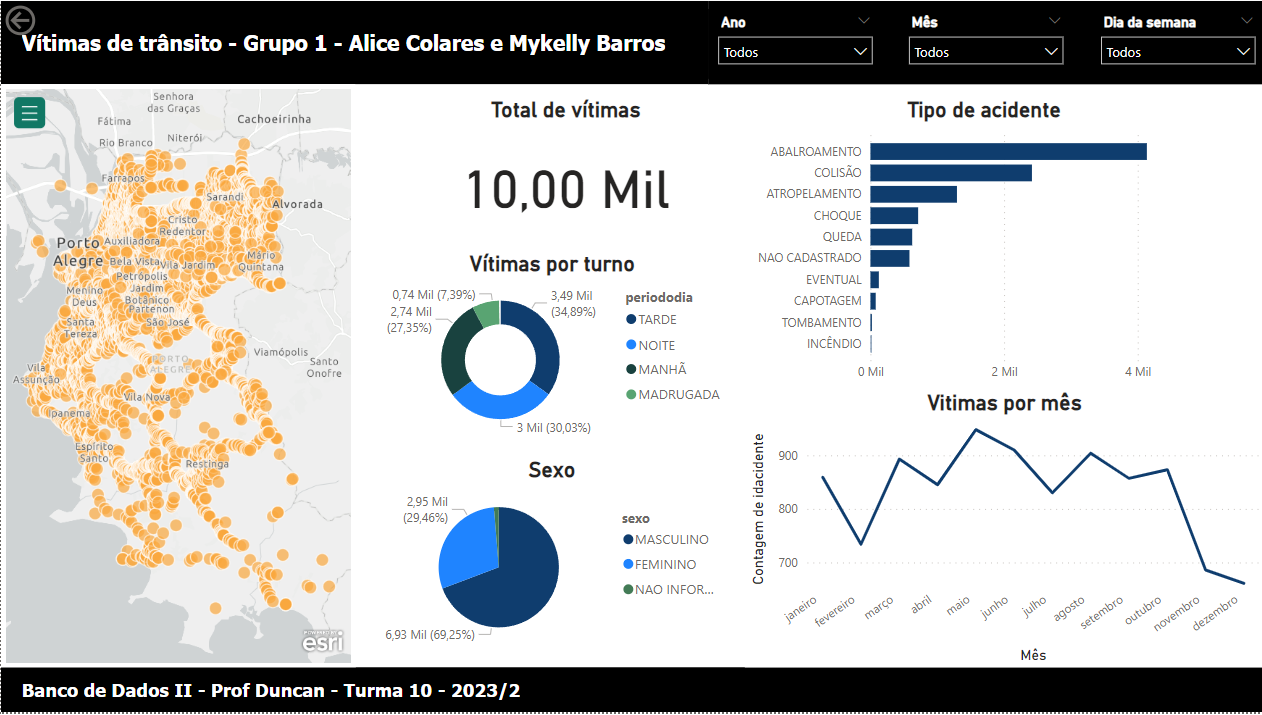

Layout of this report page (visuals, bound fields, positions):
{"tool":"powerbi","page":{"name":"Página 1","canvas":[1280,720],"ordinal":0},"visuals":[{"type":"shape","title":"Acidentes de Trânsito","box":[0,0,716.4,84.2],"z":0},{"type":"shape","title":"Acidentes de Trânsito","box":[716.9,0,563.5,84.5],"z":1000},{"type":"shape","title":"Acidentes de Trânsito","box":[0,674.7,1280.5,45.4],"z":2000},{"type":"slicer","fields":{"Values":["cat_acidentes_vitimas.data.Variation.Hierarquia de datas.Ano"]},"box":[716.9,7.8,176.9,70.4],"z":3000},{"type":"slicer","fields":{"Values":["cat_acidentes_vitimas.data.Variation.Hierarquia de datas.Mês"]},"box":[909.5,7.8,176.9,70.4],"z":4000},{"type":"slicer","fields":{"Values":["cat_acidentes_vitimas.dia_sem"]},"box":[1103.6,7.8,176.9,70.4],"z":5000},{"type":"card","title":"Total de vítimas","fields":{"Values":["cat_acidentes_vitimas.idacidente"]},"box":[448.6,98,247.1,149.1],"z":6000},{"type":"esriVisual","fields":{"Location":["cat_acidentes_vitimas.regiao"],"Longitude":["cat_acidentes_vitimas.longitude"],"Latitude":["cat_acidentes_vitimas.latitude"]},"box":[0,84.2,358.9,590.8],"z":7000},{"type":"barChart","title":"Tipo de acidente","fields":{"Category":["cat_acidentes_vitimas.tipo_acid"],"Y":["cat_acidentes_vitimas.tipo_acid"]},"box":[753.6,98,484.5,296.8],"z":8000},{"type":"pieChart","title":"Sexo","fields":{"Y":["cat_acidentes_vitimas.sexo"],"Category":["cat_acidentes_vitimas.sexo"],"Series":["cat_acidentes_vitimas.sexo"]},"box":[373.7,462.9,368.1,198],"z":9000},{"type":"donutChart","title":"Vítimas por turno","fields":{"Category":["cat_acidentes_vitimas.periododia"],"Y":["cat_acidentes_vitimas.periododia"]},"box":[374.1,254,368.5,194.6],"z":10000},{"type":"lineChart","title":"Vitimas por mês","fields":{"Category":["cat_acidentes_vitimas.data.Variation.Hierarquia de datas.Mês"],"Y":["cat_acidentes_vitimas.idacidente"]},"box":[753.6,394.8,525.9,280.2],"z":11000},{"type":"actionButton","box":[0,0,100,40],"z":12000}]}

Visuals, with their boxes in screenshot pixels (x1, y1, x2, y2), scaled from the page's 1280x720 canvas onto the 1262x715 screenshot:
"Acidentes de Trânsito" shape: x1=0 y1=0 x2=706 y2=84
"Acidentes de Trânsito" shape: x1=707 y1=0 x2=1261 y2=84
"Acidentes de Trânsito" shape: x1=0 y1=670 x2=1261 y2=714
slicer - cat_acidentes_vitimas.data.Variation.Hierarquia de datas.Ano: x1=707 y1=8 x2=881 y2=78
slicer - cat_acidentes_vitimas.data.Variation.Hierarquia de datas.Mês: x1=897 y1=8 x2=1071 y2=78
slicer - cat_acidentes_vitimas.dia_sem: x1=1088 y1=8 x2=1261 y2=78
"Total de vítimas" card: x1=442 y1=97 x2=686 y2=245
esriVisual - cat_acidentes_vitimas.regiao x cat_acidentes_vitimas.longitude: x1=0 y1=84 x2=354 y2=670
"Tipo de acidente" barChart: x1=743 y1=97 x2=1221 y2=392
"Sexo" pieChart: x1=368 y1=460 x2=731 y2=656
"Vítimas por turno" donutChart: x1=369 y1=252 x2=732 y2=445
"Vitimas por mês" lineChart: x1=743 y1=392 x2=1261 y2=670
actionButton: x1=0 y1=0 x2=99 y2=40
